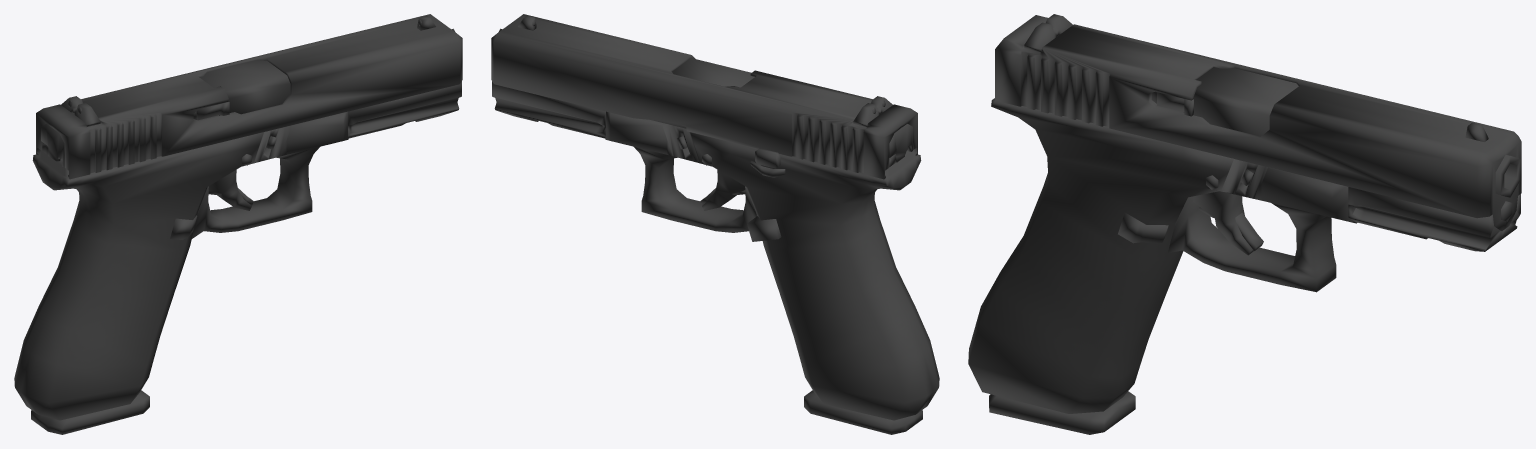
File: Glock17.fbx
The picture shows the model from 3 angles, left to right: view 1: azimuth 30°, elevation 25°; view 2: azimuth 150°, elevation 25°; view 3: azimuth 330°, elevation 25°; orthographic projection. The views are drawn at different scales.
Parts seen in each view (by area): view 1: Cube; view 2: Cube; view 3: Cube.
Boxes of the visible parts, left/top/right/bottom form: Cube: left=14, top=14, right=462, bottom=434; Cube: left=491, top=14, right=939, bottom=434; Cube: left=968, top=14, right=1521, bottom=434.
Bounding box in the file's own units: 812 × 562 × 123.
Materials: 1 (1 with a texture image).
